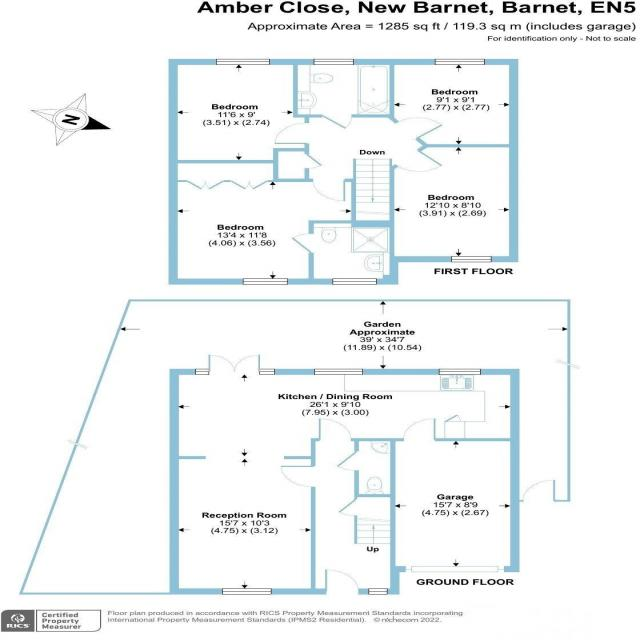DOOR: (392, 149, 445, 173), (394, 117, 443, 140), (324, 569, 359, 595), (279, 465, 316, 488), (402, 417, 437, 441), (311, 179, 346, 202), (274, 122, 309, 145), (318, 418, 352, 441), (334, 450, 359, 472), (321, 114, 353, 130), (290, 233, 314, 254), (336, 498, 358, 517)
DOUBLE DOOR: (207, 353, 262, 375)
ROOM: (169, 354, 520, 595), (168, 159, 356, 285), (389, 144, 519, 262), (168, 59, 310, 164), (389, 58, 519, 148)
WINDOW: (434, 58, 485, 66), (314, 368, 364, 375), (222, 588, 272, 595), (215, 59, 270, 65), (331, 278, 378, 285), (242, 278, 289, 285), (438, 368, 481, 375), (313, 58, 355, 65), (451, 256, 492, 263), (368, 588, 388, 595), (259, 368, 275, 375), (195, 368, 209, 375)
